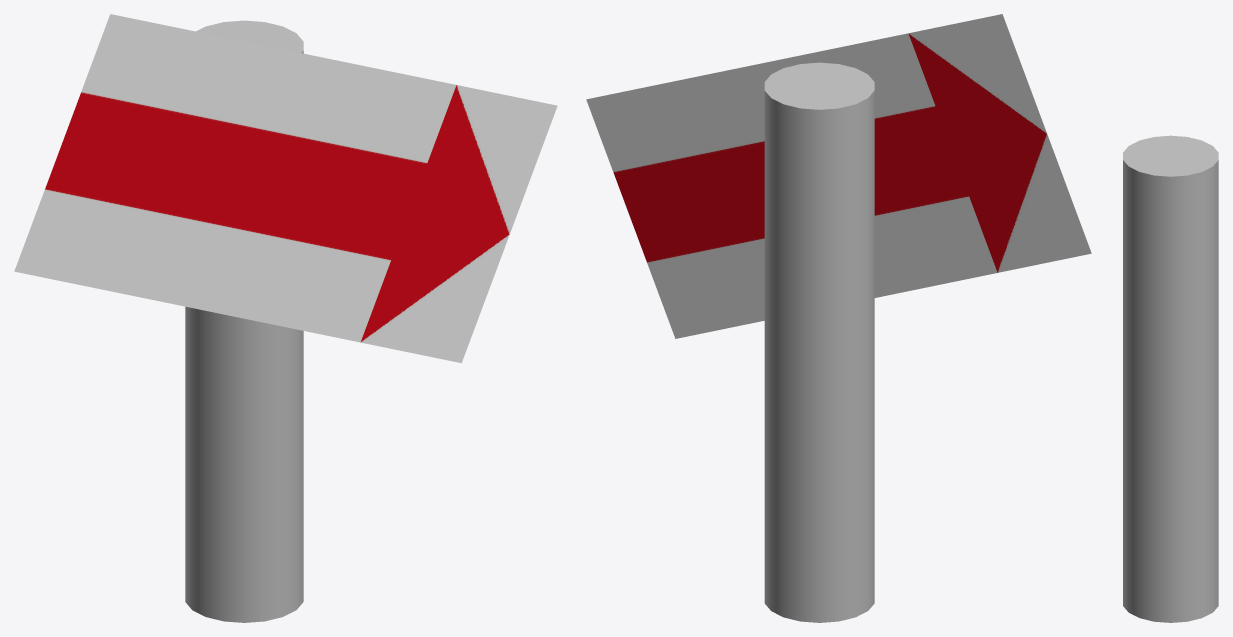
File: Signboard.fbx
The picture shows the model from 3 angles, left to right: view 1: azimuth 30°, elevation 25°; view 2: azimuth 150°, elevation 25°; view 3: azimuth 270°, elevation 25°; orthographic projection. The views are drawn at different scales.
Visible parts, largest first — view 1: Box001, Cylinder001; view 2: Box001, Cylinder001; view 3: Cylinder001.
Part boxes in pixels (box(x1,y1,x2,y2)): Box001: box(14, 14, 557, 363); Cylinder001: box(185, 20, 303, 622); Box001: box(586, 14, 1091, 338); Cylinder001: box(764, 62, 874, 622); Cylinder001: box(1123, 135, 1218, 622).
Bounding box in the file's own units: 55.81 × 63.46 × 10.82.
